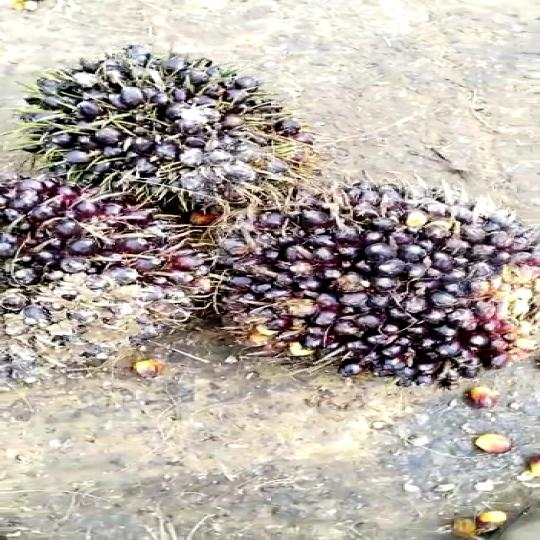mentah: (193, 185, 540, 392), (0, 166, 249, 408), (7, 39, 322, 206)
